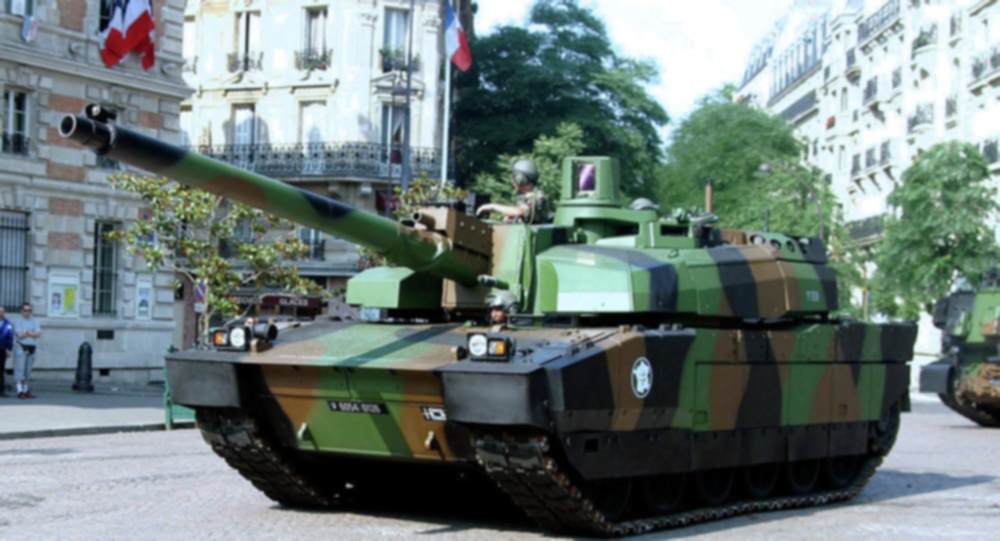license_plate: (324, 398, 389, 416)
